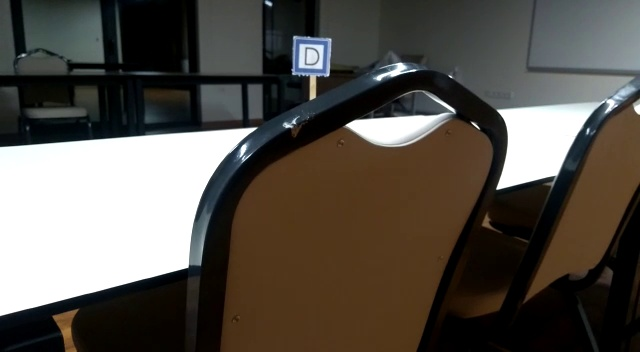durak: (294, 36, 331, 76)
